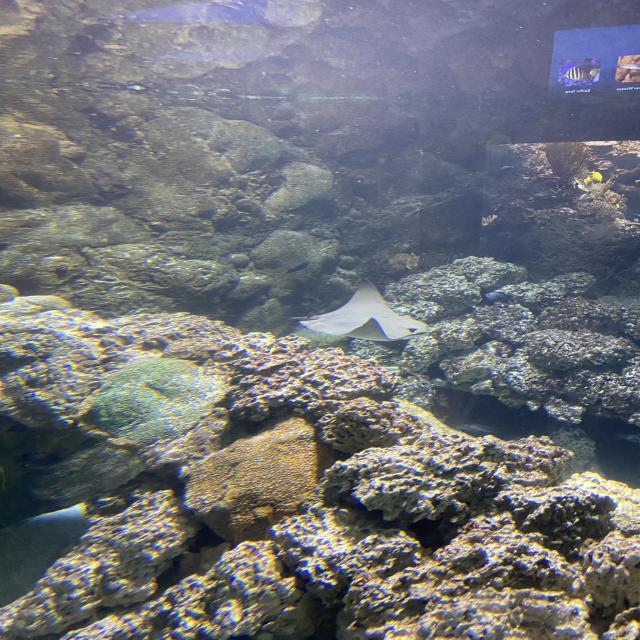stingray: (298, 277, 430, 339)
